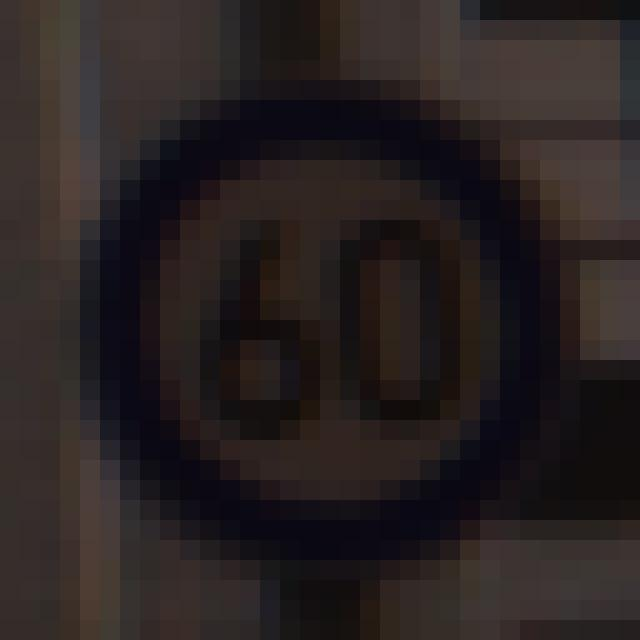SPEED-LIMIT-60: (74, 82, 591, 591)
